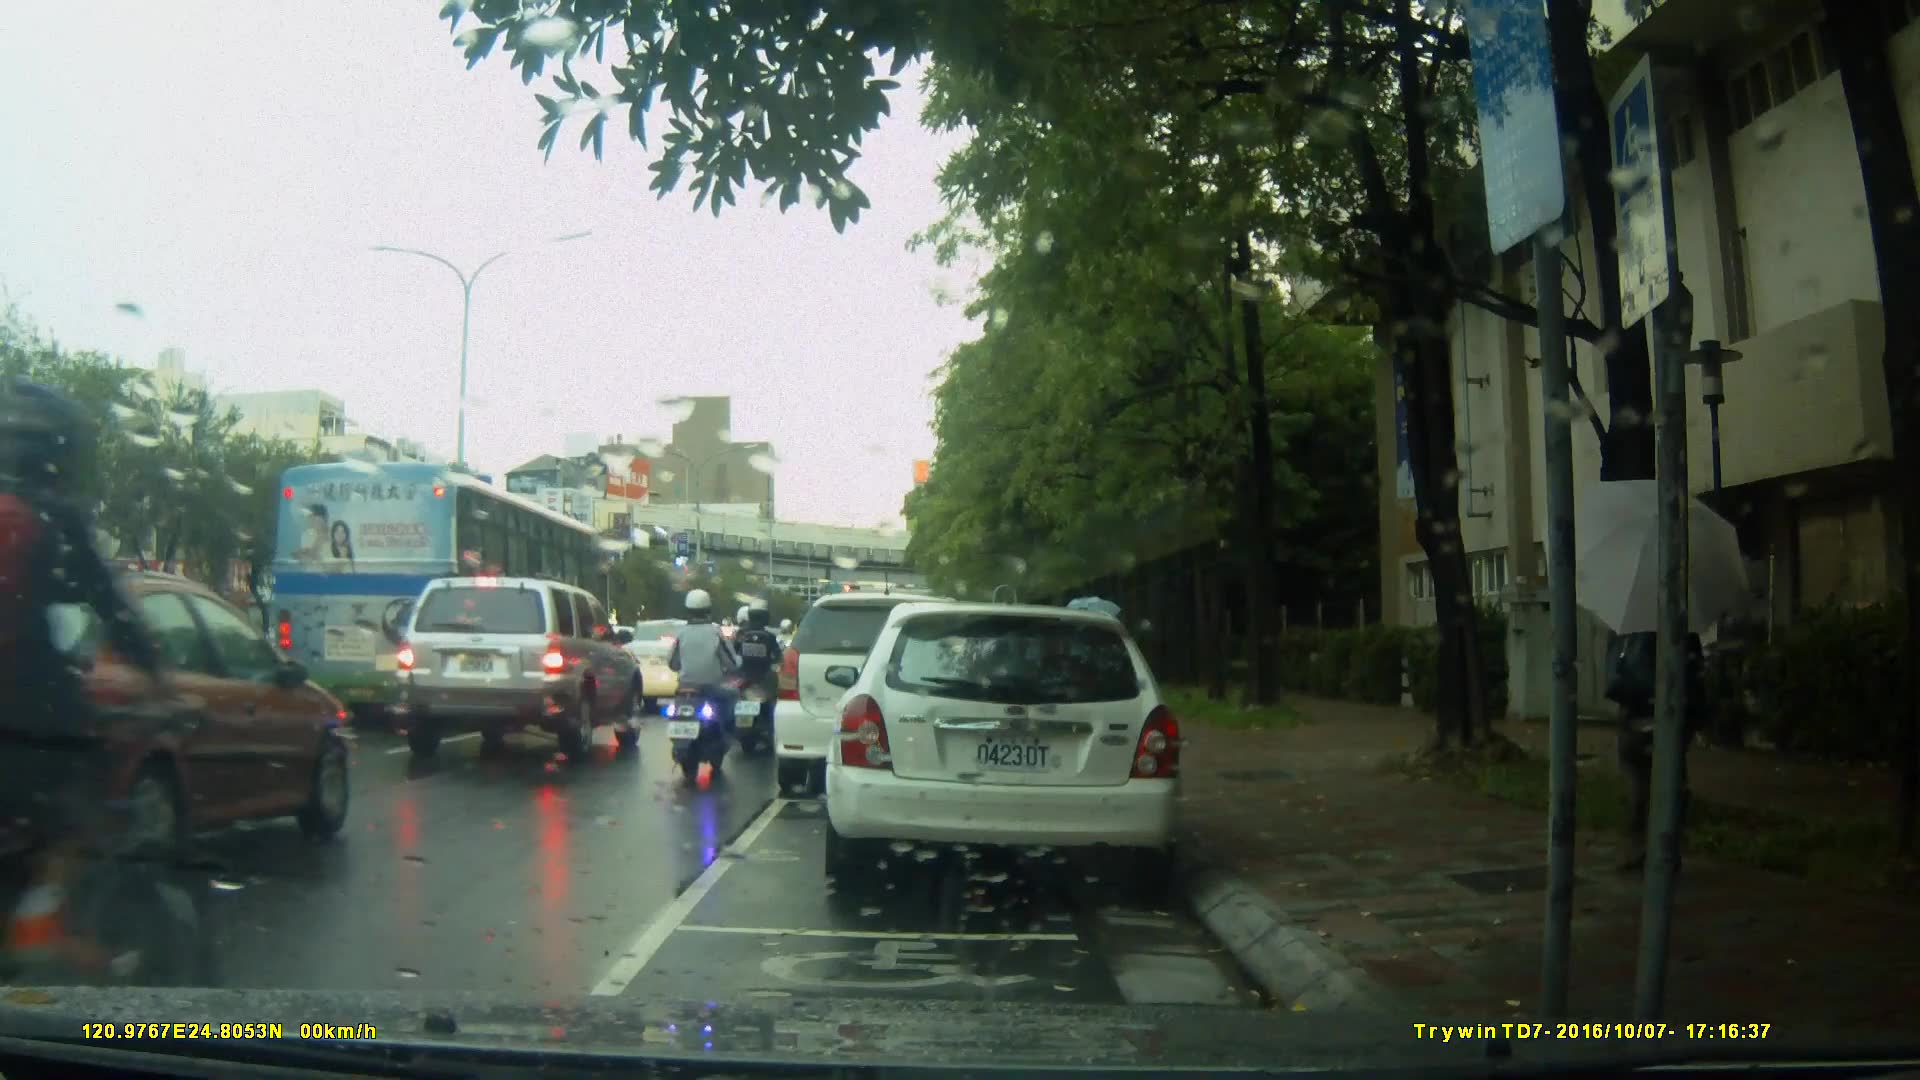pedestrian: (1618, 522, 1752, 894)
rider: (1, 374, 232, 1076), (662, 584, 738, 785), (727, 601, 788, 758), (722, 601, 773, 725)
vehicle: (1, 574, 366, 899), (835, 594, 1194, 898), (270, 461, 610, 740), (776, 590, 1026, 784), (388, 574, 649, 758)
